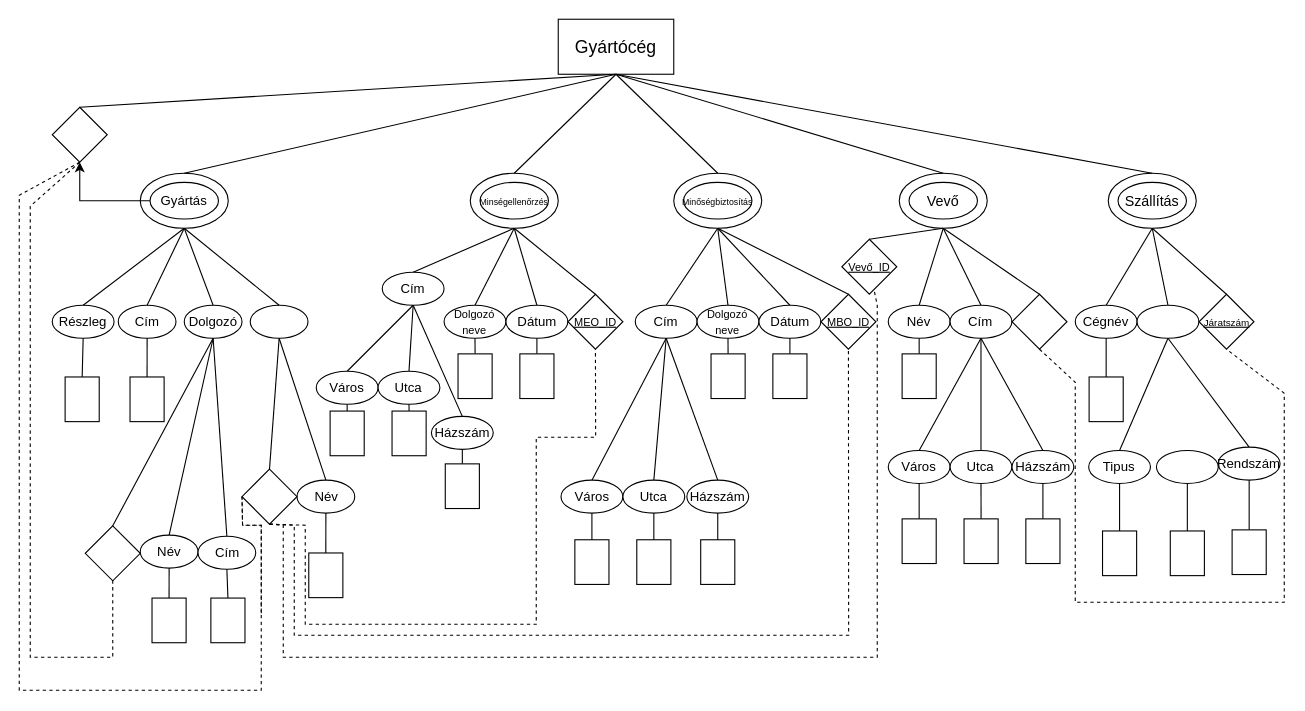
This 1305x711 diagram has some shape labels left out. The centre of each missing label's shape, as x and y in pixels:
"Autó" goes at [1167,321].
"DID" goes at [112,553].
"GyártóID" goes at [79,134].
"Műszaki érvényesség" goes at [1186,466].
"Rendelésszám" goes at [1039,321].
"Termék" goes at [278,321].
"TID" goes at [269,496].
